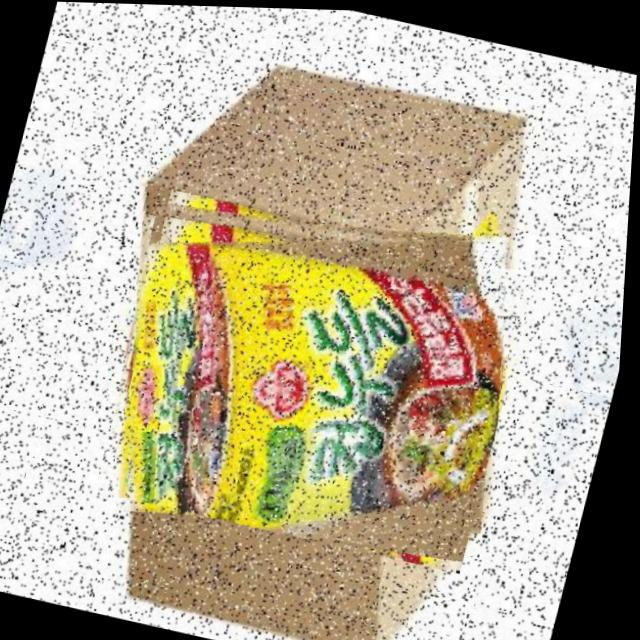Miscellaneous: (87, 172, 546, 572)
